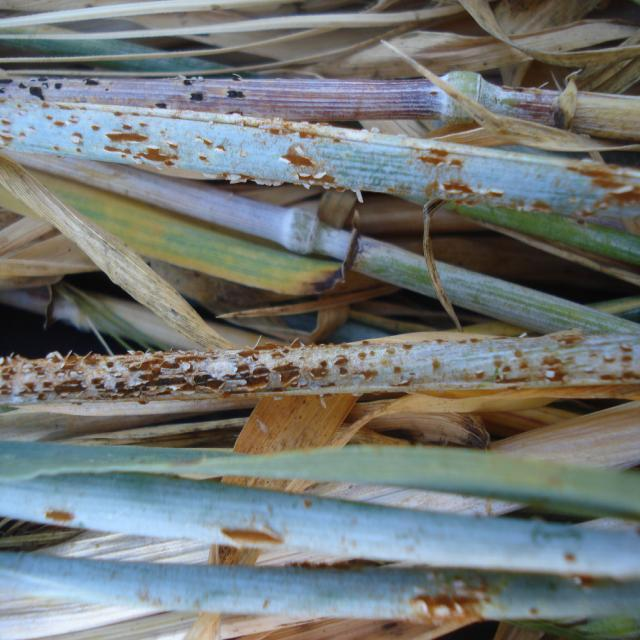Stem_Rust: (0, 76, 640, 630)
